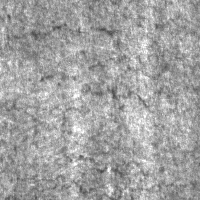crazing: (28, 15, 190, 109), (15, 140, 199, 199)
